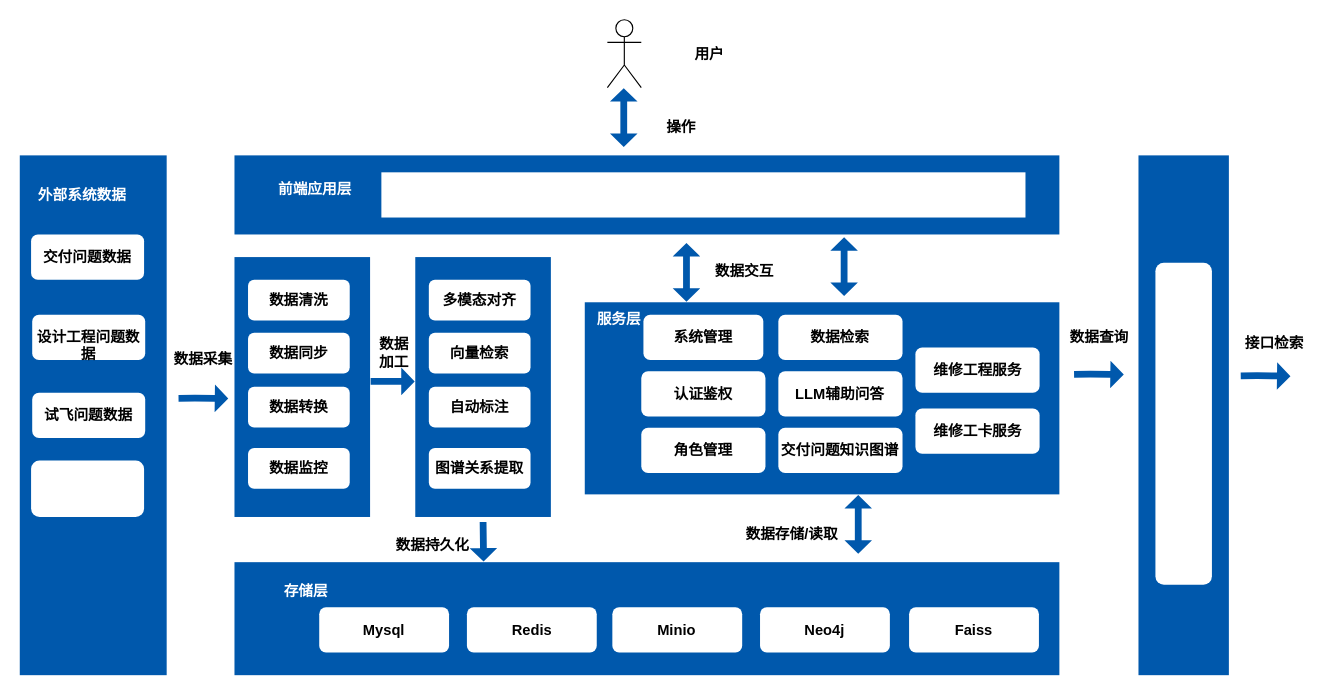
Some shapes in this 1338 by 695 pixel diagram are drawn without their labels. The centre of each missing label's shape, as x and y in pixels:
"Web" belongs at (703,194).
"制造问题数据" belongs at (87,488).
"接 口 服 务" belongs at (1183,423).
